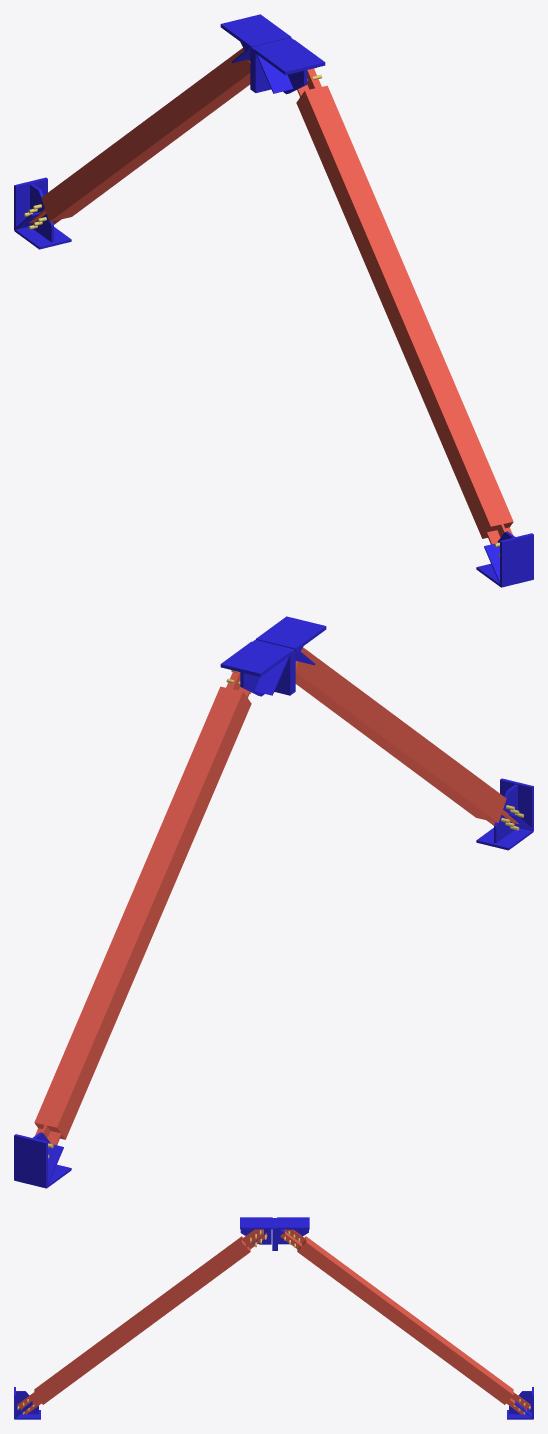
Rendered from brace_frame_A.glb.
3 renders of one model, top to bottom at view 1: azimuth 30°, elevation 25°; view 2: azimuth 150°, elevation 25°; view 3: azimuth 270°, elevation 25°, orthographic. The views are drawn at different scales.
Visible parts, largest first — view 1: Plane.006; view 2: Plane.006; view 3: Plane.006.
Part boxes in pixels (x1,y1,x2,y2): Plane.006: (14,14,533,587); Plane.006: (14,616,533,1188); Plane.006: (14,1217,533,1419).
Size of the model in its own units: 0.5206 by 3.9 by 9.51.
